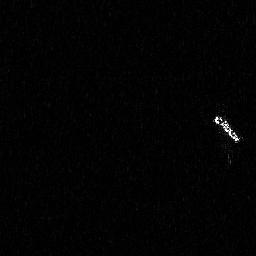ship: (211, 113, 241, 145)
